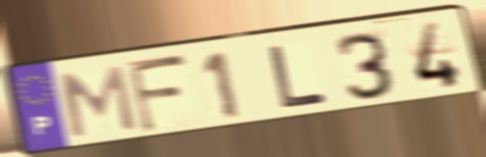1: (200, 50, 242, 121)
3: (335, 30, 398, 103)
4: (412, 20, 463, 91)
F: (123, 53, 191, 136)
L: (264, 42, 332, 112)
M: (56, 63, 140, 140)
